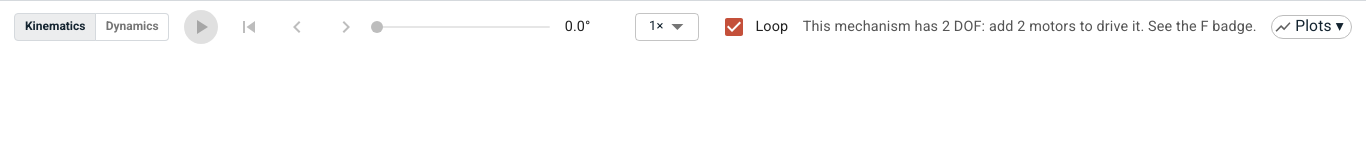
Transport: dynamics analysis › switches analysis, shows computing progress, then the free DOF
Expected: the button named "Play" is disabled, [184, 10, 218, 44]
Click the button "Dynamics". click: click(132, 27)
box: [95, 13, 169, 41]
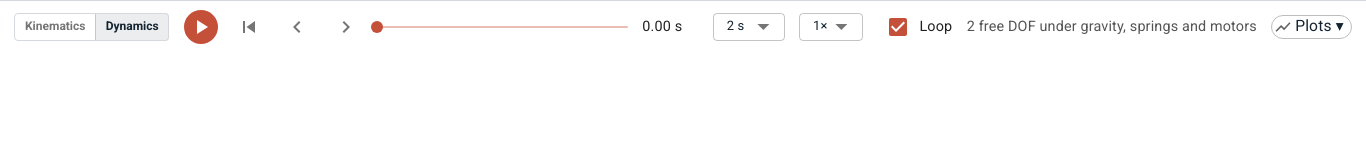
Now the button named "Play" is enabled, box [184, 10, 218, 44]
Now the text "2 free DOF under gravity, springs and motors" is shown, box [967, 15, 1257, 39]
Now the slider named "Time" is shown, box [371, 21, 383, 33]
